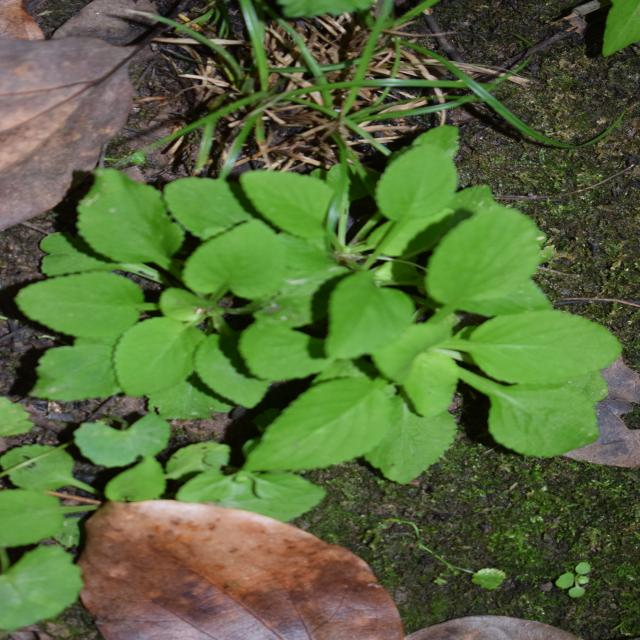Viola: (170, 44, 478, 386), (165, 328, 410, 614)
